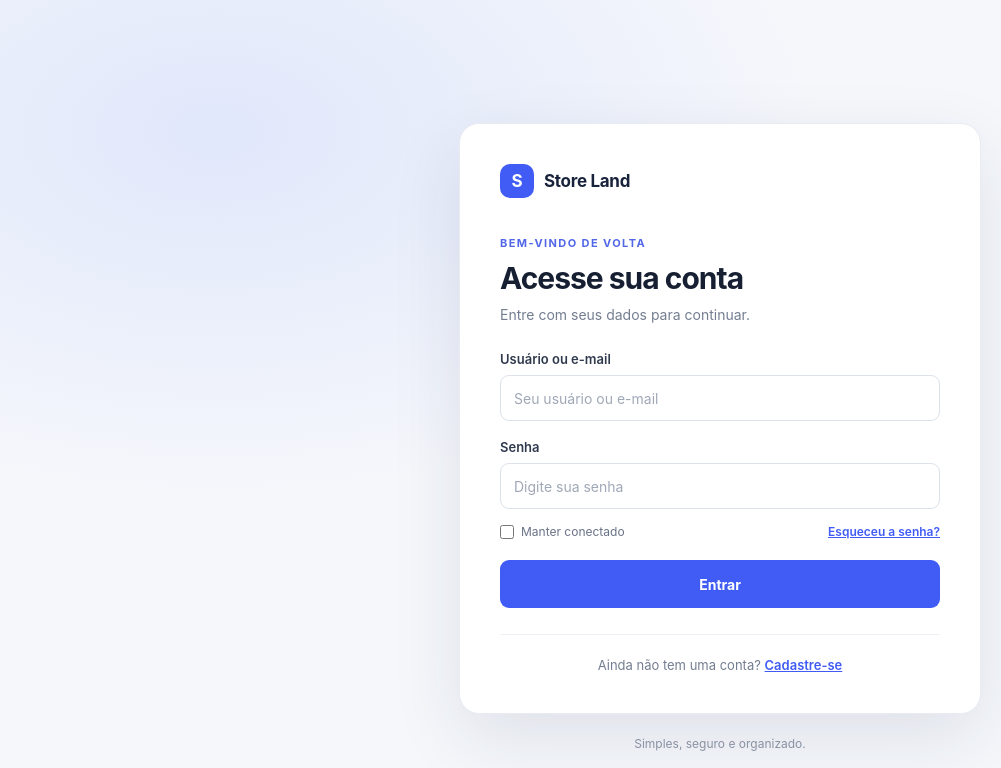
Test: navigates to the forgot-password route
This screenshot has width=1001, height=768.
Click the link "Esqueceu a senha?". click: (884, 532)
box: [828,524,940,539]
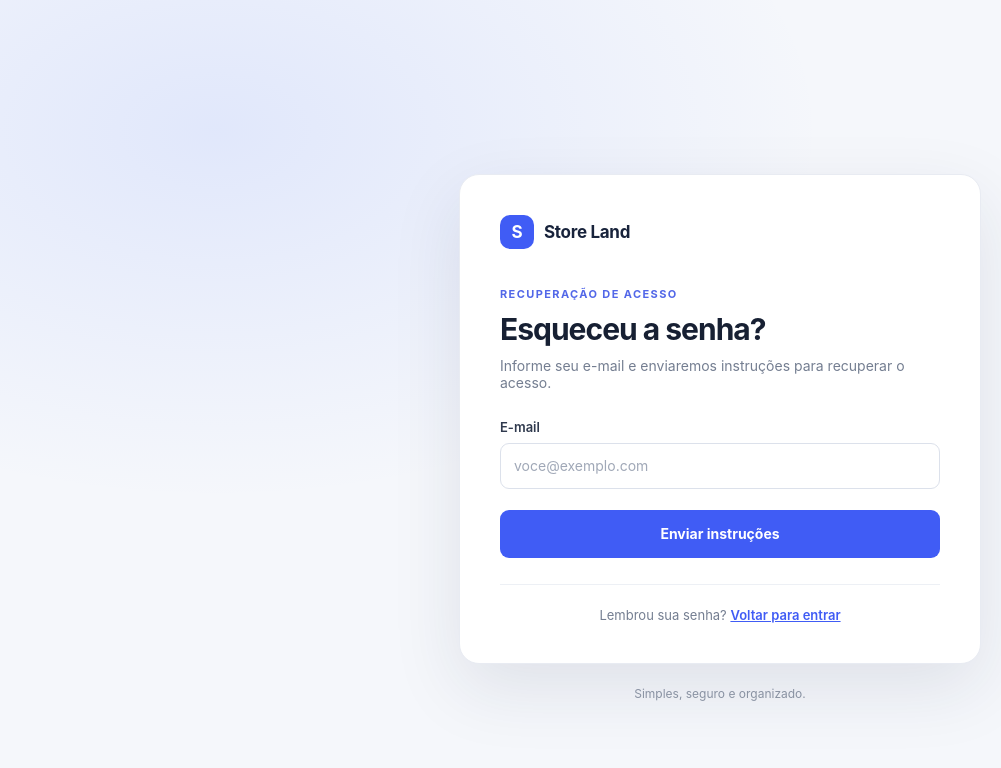
Expected: the heading "Esqueceu a senha?" is shown, [500,310,766,346]
Expected: the field labelled "E-mail" is shown, [500,442,940,488]
Expected: the button "Enviar instruções" is shown, [500,510,940,558]
